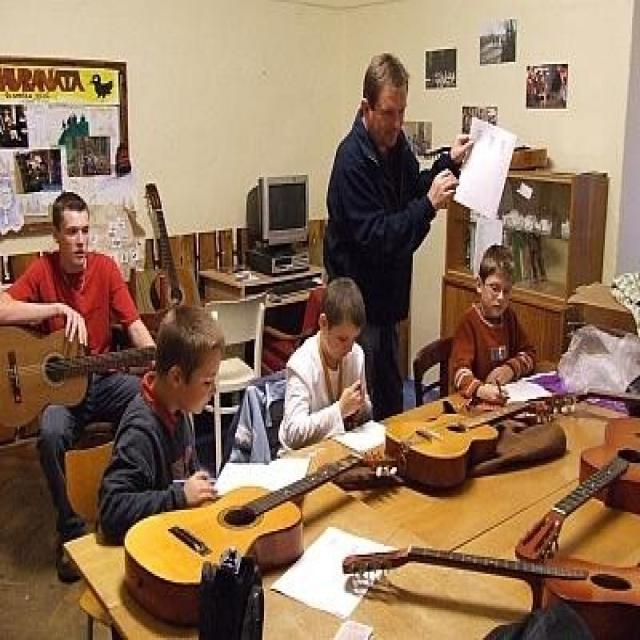guitar: (123, 448, 394, 627), (337, 537, 640, 640), (382, 390, 578, 493), (0, 322, 184, 429), (517, 417, 638, 565), (141, 178, 198, 310)
